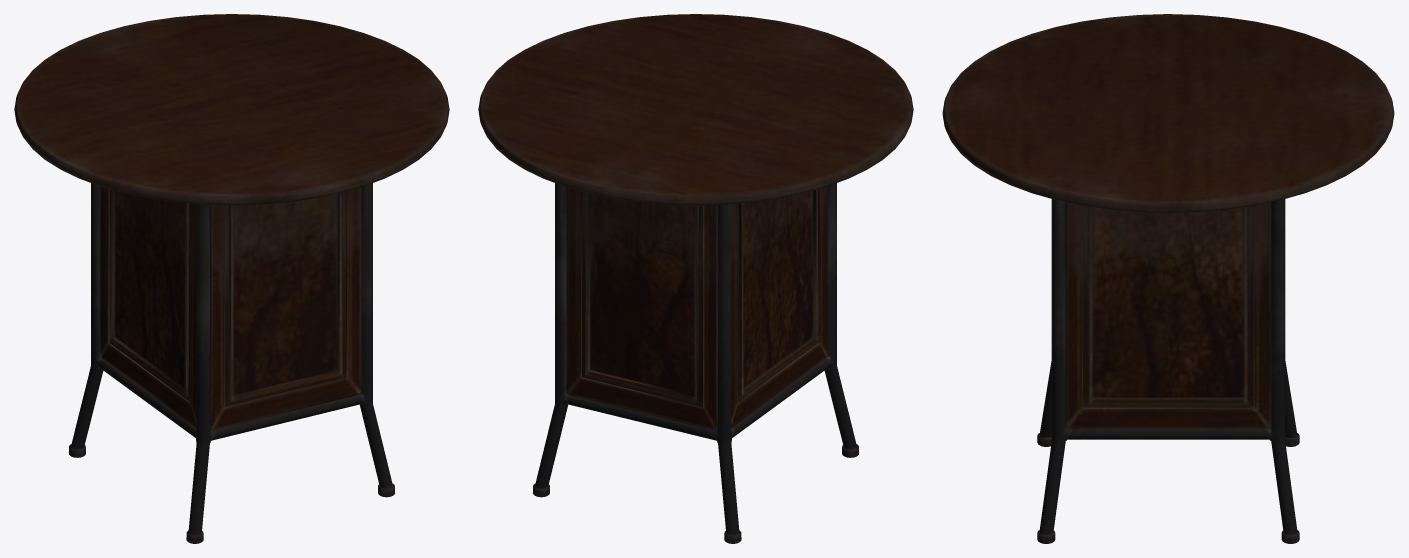
The model's file is table.glb.
3 views of the same model, side by side, from view 1: azimuth 30°, elevation 25°; view 2: azimuth 150°, elevation 25°; view 3: azimuth 270°, elevation 25° (orthographic). The views are drawn at different scales.
Parts seen in each view (by area): view 1: round_wooden_table_02; view 2: round_wooden_table_02; view 3: round_wooden_table_02.
Boxes of the visible parts, x1=… form: round_wooden_table_02: x1=14, y1=14, x2=449, y2=543; round_wooden_table_02: x1=478, y1=14, x2=913, y2=543; round_wooden_table_02: x1=942, y1=14, x2=1394, y2=543.
Bounding box in the file's own units: 0.7424 × 0.6956 × 0.7424.
Materials: 1 (1 with a texture image).
